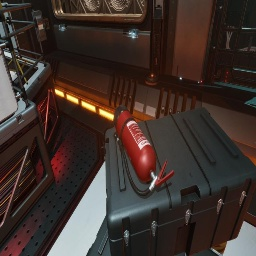EmergencyPhone ,: (43, 16, 50, 30)
FireExtinguisher ]: (113, 104, 174, 196)
SafetySwitchPanel ,: (32, 10, 47, 42)
